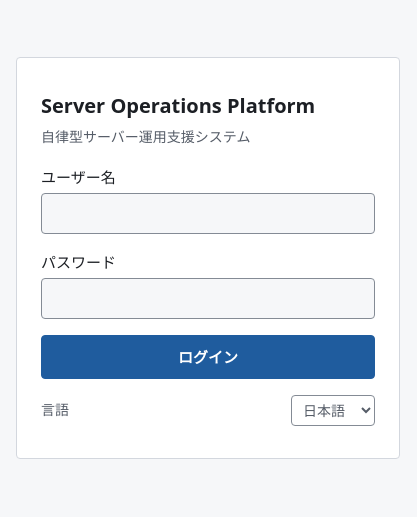
Test: LoginView › 失敗したらパスワード欄を空にする
Type "viewer" into the field with id "username". click: (208, 213)
box: [41, 192, 375, 234]
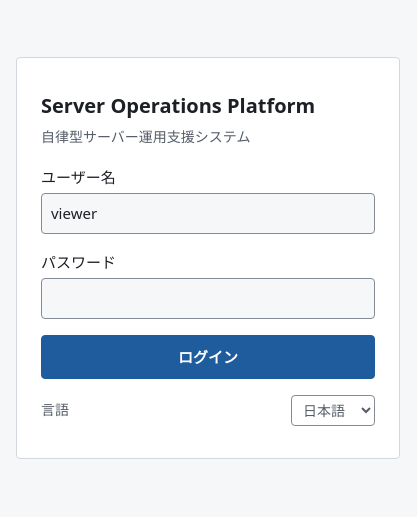
Type "wrong" into the password field labelled "パスワード". click: (208, 298)
box: [41, 278, 375, 318]
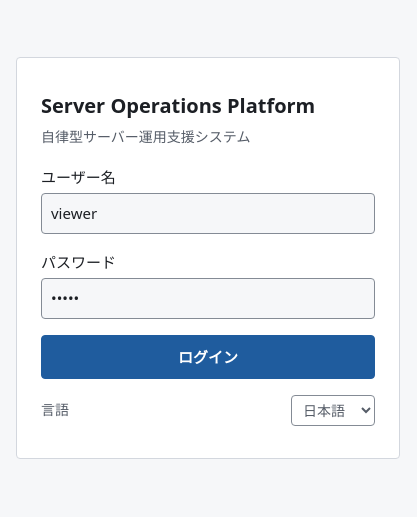
Submit the form
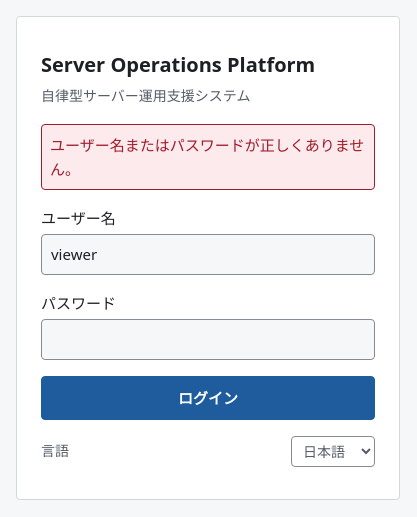
Expected: the password field labelled "パスワード" is empty, [41, 318, 375, 360]
Expected: the message with test id "login-error" reads "ユーザー名またはパスワードが正しくありません。", [50, 134, 364, 178]
